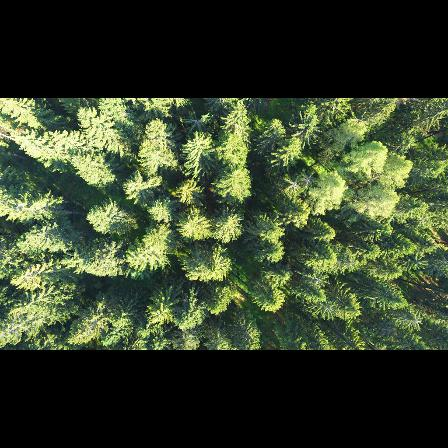Sick: (180, 108, 209, 134), (305, 270, 333, 291), (282, 173, 304, 196), (376, 321, 400, 340), (405, 312, 427, 332), (318, 300, 340, 320), (299, 171, 320, 190)
